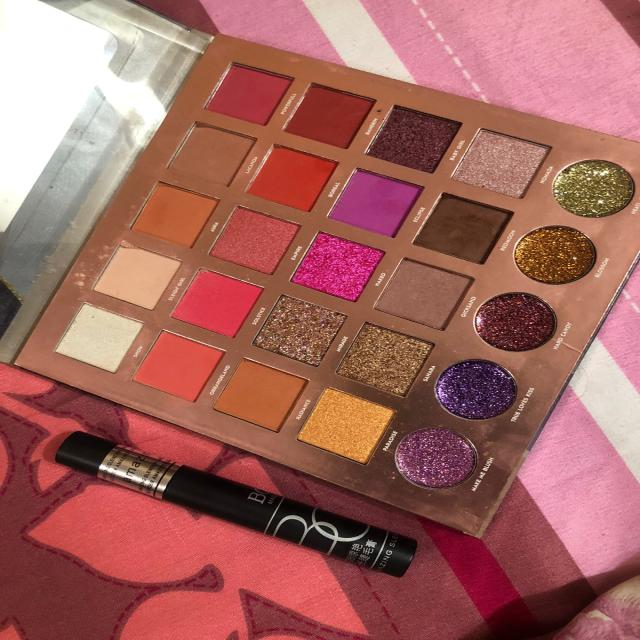eye shade: (122, 175, 558, 424), (151, 56, 640, 232), (39, 271, 405, 423), (98, 233, 375, 395)
mascara: (44, 426, 405, 574)
